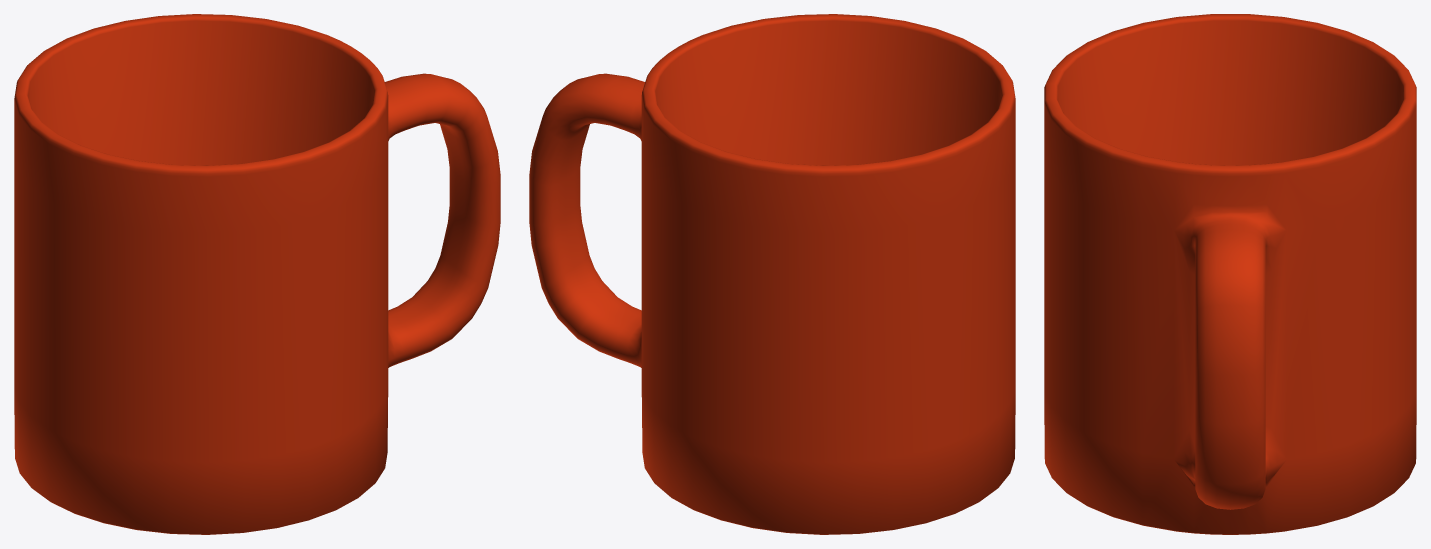
Rendered from cup_lp.obj.
3 renders of one model, left to right at view 1: azimuth 30°, elevation 25°; view 2: azimuth 150°, elevation 25°; view 3: azimuth 270°, elevation 25°, orthographic.
Visible parts, largest first — view 1: cup_lp; view 2: cup_lp; view 3: cup_lp.
Boxes of the visible parts, box(x1,y1,x2,y2) form: cup_lp: box(14, 14, 500, 534); cup_lp: box(529, 14, 1015, 534); cup_lp: box(1044, 14, 1416, 534).
Bounding box in the file's own units: 12.95 × 10 × 9.23.
